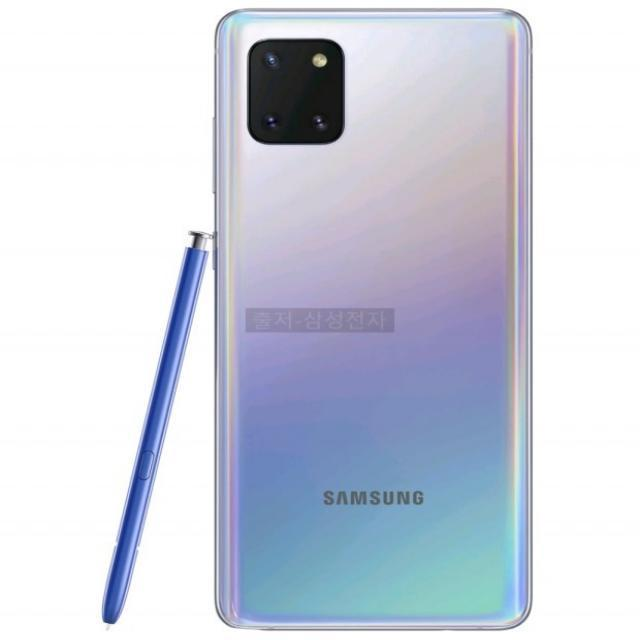phone: (212, 9, 536, 634)
